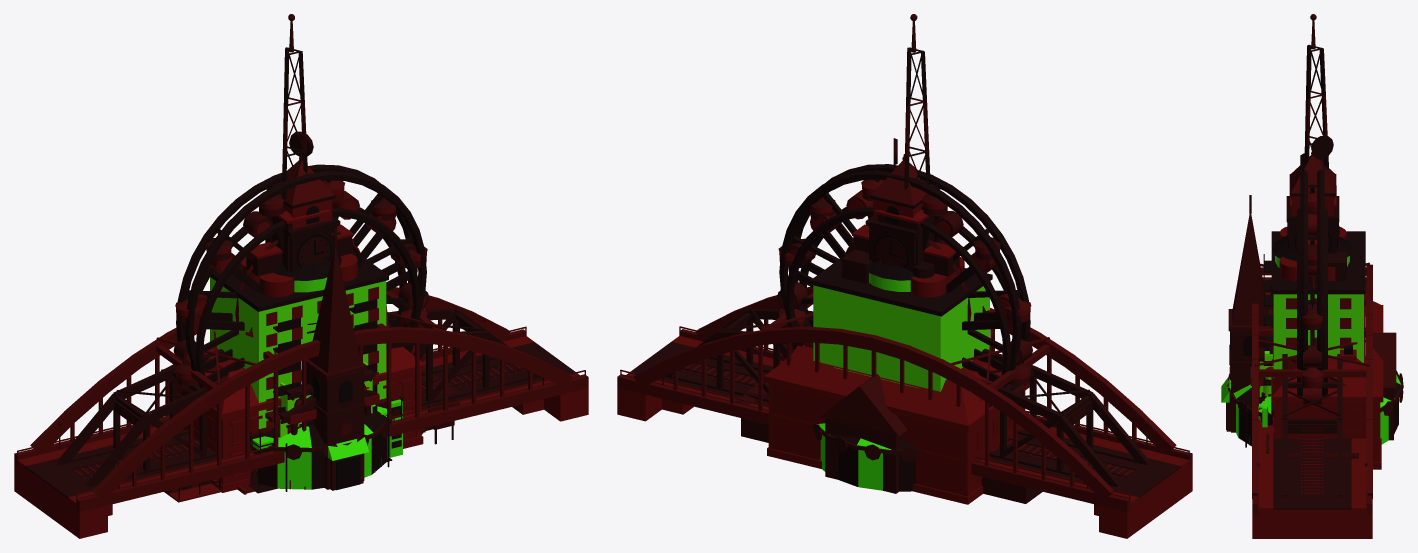
3 views of the same model, side by side, from view 1: azimuth 30°, elevation 25°; view 2: azimuth 150°, elevation 25°; view 3: azimuth 270°, elevation 25° (orthographic). The views are drawn at different scales.
Parts seen in each view (by area): view 1: road_bridge, rail_bridge, apartment_block, ferris_wheel, ferris_wheel_ring, church, town_hall, circus_tent, clock_tower, grain_elevator, radio_mast, motel (+3 smaller); view 2: road_bridge, town_hall, apartment_block, rail_bridge, ferris_wheel, ferris_wheel_ring, church, clock_tower, circus_tent, grain_elevator, radio_mast, motel (+1 smaller); view 3: road_bridge, apartment_block, town_hall, rail_bridge, church, ferris_wheel, ferris_wheel_ring, clock_tower, circus_tent, radio_mast, grain_elevator, water_tower (+3 smaller).
Boxes of the visible parts, bbox=[...] form: road_bridge: bbox=[14, 287, 588, 538]; rail_bridge: bbox=[56, 307, 543, 515]; apartment_block: bbox=[210, 251, 388, 428]; ferris_wheel: bbox=[175, 164, 427, 386]; ferris_wheel_ring: bbox=[173, 190, 429, 395]; church: bbox=[306, 228, 367, 489]; town_hall: bbox=[161, 347, 425, 492]; circus_tent: bbox=[250, 404, 394, 490]; clock_tower: bbox=[266, 154, 340, 272]; grain_elevator: bbox=[241, 209, 357, 297]; radio_mast: bbox=[282, 14, 313, 211]; motel: bbox=[164, 370, 460, 502]; road_bridge: bbox=[617, 287, 1192, 538]; town_hall: bbox=[764, 344, 1029, 504]; apartment_block: bbox=[810, 249, 992, 391]; rail_bridge: bbox=[662, 307, 1150, 515]; ferris_wheel: bbox=[778, 164, 1031, 386]; ferris_wheel_ring: bbox=[777, 190, 1032, 395]; church: bbox=[820, 188, 947, 493]; clock_tower: bbox=[865, 154, 939, 273]; circus_tent: bbox=[813, 423, 923, 491]; grain_elevator: bbox=[851, 209, 964, 297]; radio_mast: bbox=[893, 14, 930, 189]; motel: bbox=[735, 382, 1042, 503]; road_bridge: bbox=[1252, 262, 1372, 538]; apartment_block: bbox=[1263, 226, 1365, 400]; town_hall: bbox=[1241, 297, 1383, 469]; rail_bridge: bbox=[1282, 354, 1342, 496]; church: bbox=[1228, 195, 1396, 440]; ferris_wheel: bbox=[1300, 153, 1324, 388]; ferris_wheel_ring: bbox=[1297, 208, 1327, 405]; clock_tower: bbox=[1286, 152, 1339, 254]; circus_tent: bbox=[1221, 370, 1403, 446]; radio_mast: bbox=[1304, 14, 1333, 170]; grain_elevator: bbox=[1279, 185, 1346, 282]; water_tower: bbox=[1269, 235, 1352, 294].
Size of what is drawn, in the model's own units: 72 by 59.55 by 24.2.
